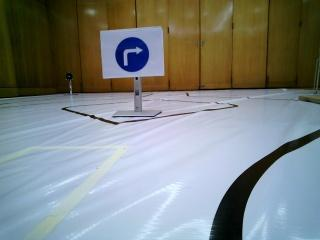right: (100, 31, 166, 78)
